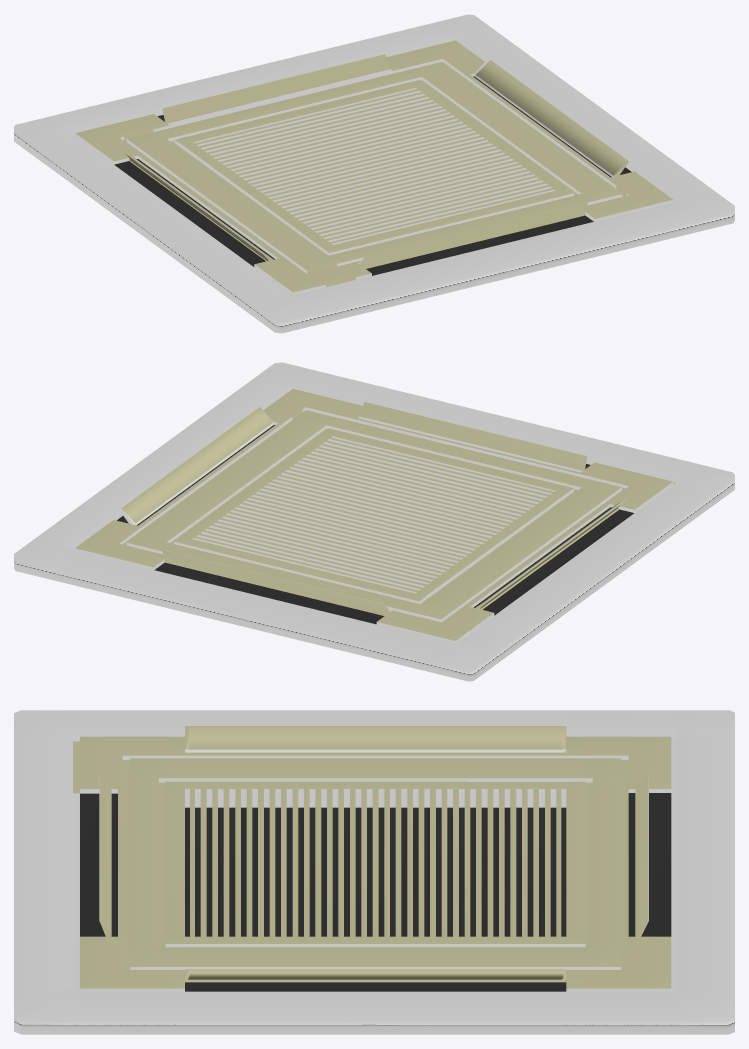
Rendered from ac persegi.fbx.
3 views of the same model, one above another, from view 1: azimuth 30°, elevation 25°; view 2: azimuth 150°, elevation 25°; view 3: azimuth 270°, elevation 25° (orthographic). The views are drawn at different scales.
Visible parts, largest first — view 1: Cube; view 2: Cube; view 3: Cube.
Boxes of the visible parts, x1,y1,x2,y2 form: Cube: (14, 14, 734, 333); Cube: (14, 362, 734, 681); Cube: (14, 710, 734, 1034).
Size of the model in its own units: 400 by 21.7 by 400.
